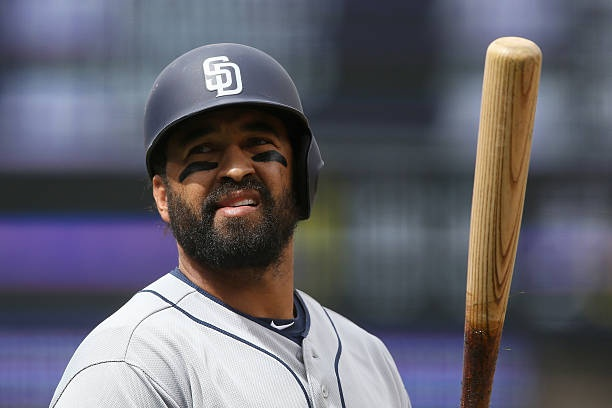bita: (441, 34, 540, 408)
